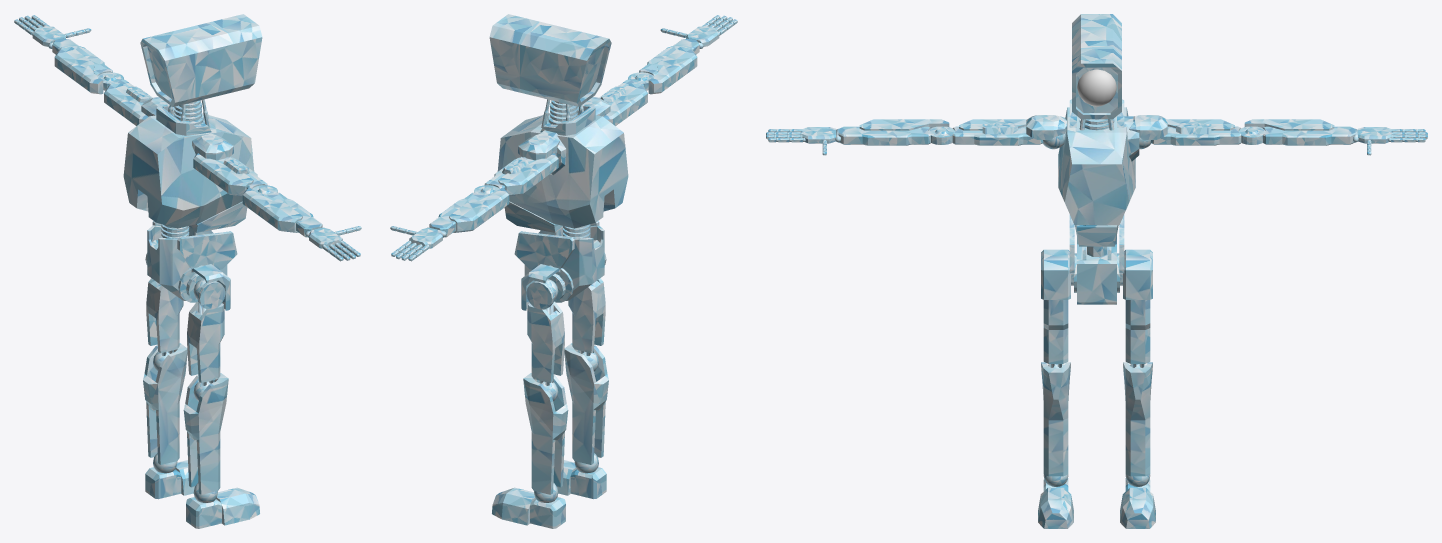
The model's file is RobotV2.fbx.
3 renders of one model, left to right at view 1: azimuth 30°, elevation 25°; view 2: azimuth 150°, elevation 25°; view 3: azimuth 270°, elevation 25°, orthographic.
Visible parts, largest first — view 1: Robot, RobotRightLeg, RobotHead, RobotLeftLeg, RobotRightArm, RobotLeftArm; view 2: Robot, RobotLeftLeg, RobotHead, RobotRightLeg, RobotLeftArm, RobotRightArm; view 3: Robot, RobotLeftLeg, RobotRightLeg, RobotRightArm, RobotLeftArm, RobotHead.
Boxes of the visible parts, x1,y1,x2,y2 form: Robot: (123, 99, 254, 302); RobotRightLeg: (183, 264, 259, 528); RobotHead: (140, 14, 262, 106); RobotLeftLeg: (143, 253, 194, 499); RobotRightArm: (192, 133, 361, 261); RobotLeftArm: (14, 15, 173, 125); Robot: (497, 99, 628, 302); RobotLeftLeg: (492, 264, 568, 528); RobotHead: (489, 14, 611, 106); RobotRightLeg: (557, 253, 608, 499); RobotLeftArm: (390, 133, 559, 261); RobotRightArm: (577, 15, 737, 125); Robot: (1058, 99, 1139, 304); RobotLeftLeg: (1120, 249, 1155, 528); RobotRightLeg: (1038, 249, 1073, 528); RobotRightArm: (766, 115, 1066, 155); RobotLeftArm: (1129, 115, 1427, 155); RobotHead: (1072, 14, 1121, 119).
Bounding box in the file's own units: 511 × 2106 × 2665.
